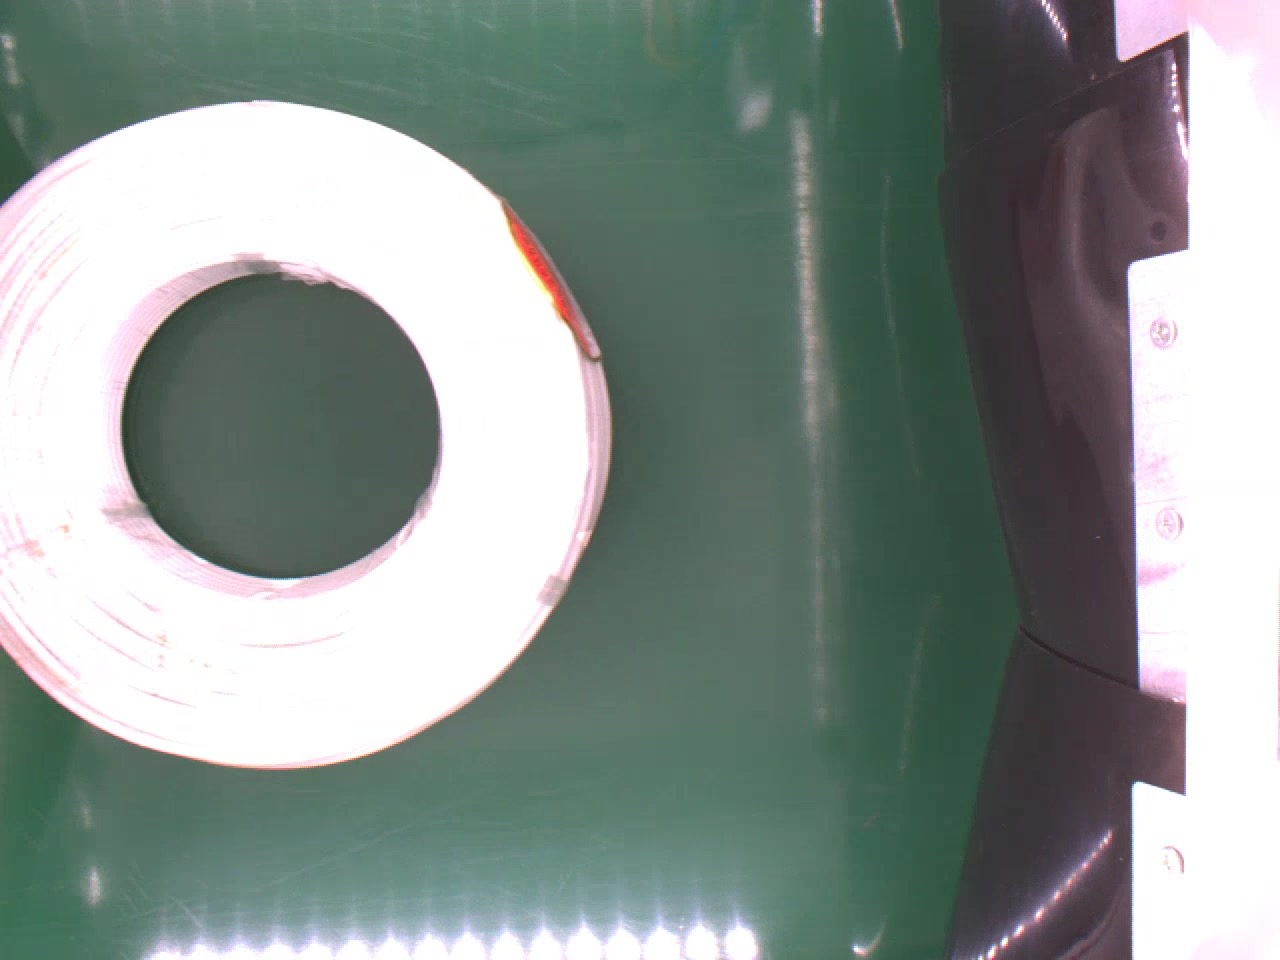white: (0, 93, 622, 782)
